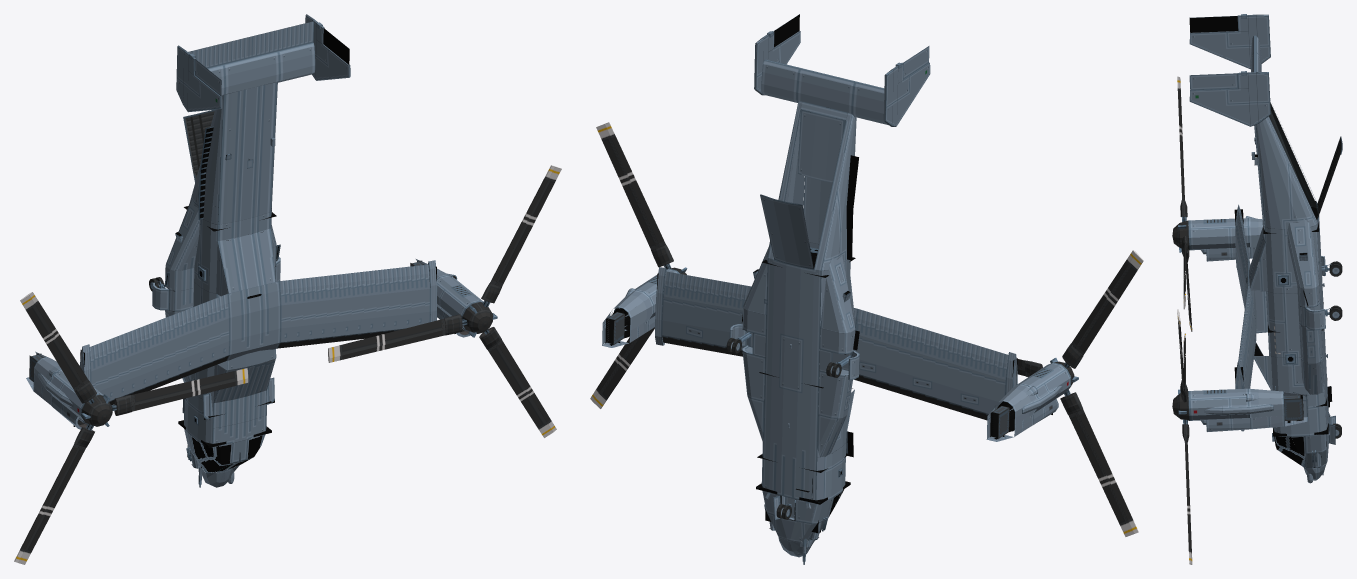
File: v22-osprey-blockbench.glb
3 views of the same model, side by side, from view 1: azimuth 30°, elevation 25°; view 2: azimuth 150°, elevation 25°; view 3: azimuth 270°, elevation 25° (orthographic). The views are drawn at different scales.
Parts seen in each view (by area): view 1: mesh (×30); view 2: mesh (×28); view 3: mesh (×46).
Part boxes in pixels (x1,y1,x2,y2): mesh (×30): [14, 21, 561, 564]; mesh (×28): [593, 59, 1143, 541]; mesh (×46): [1172, 14, 1342, 564].
Bounding box in the file's own units: 31.03 × 26.04 × 9.18.
1 material, 1 textured.
